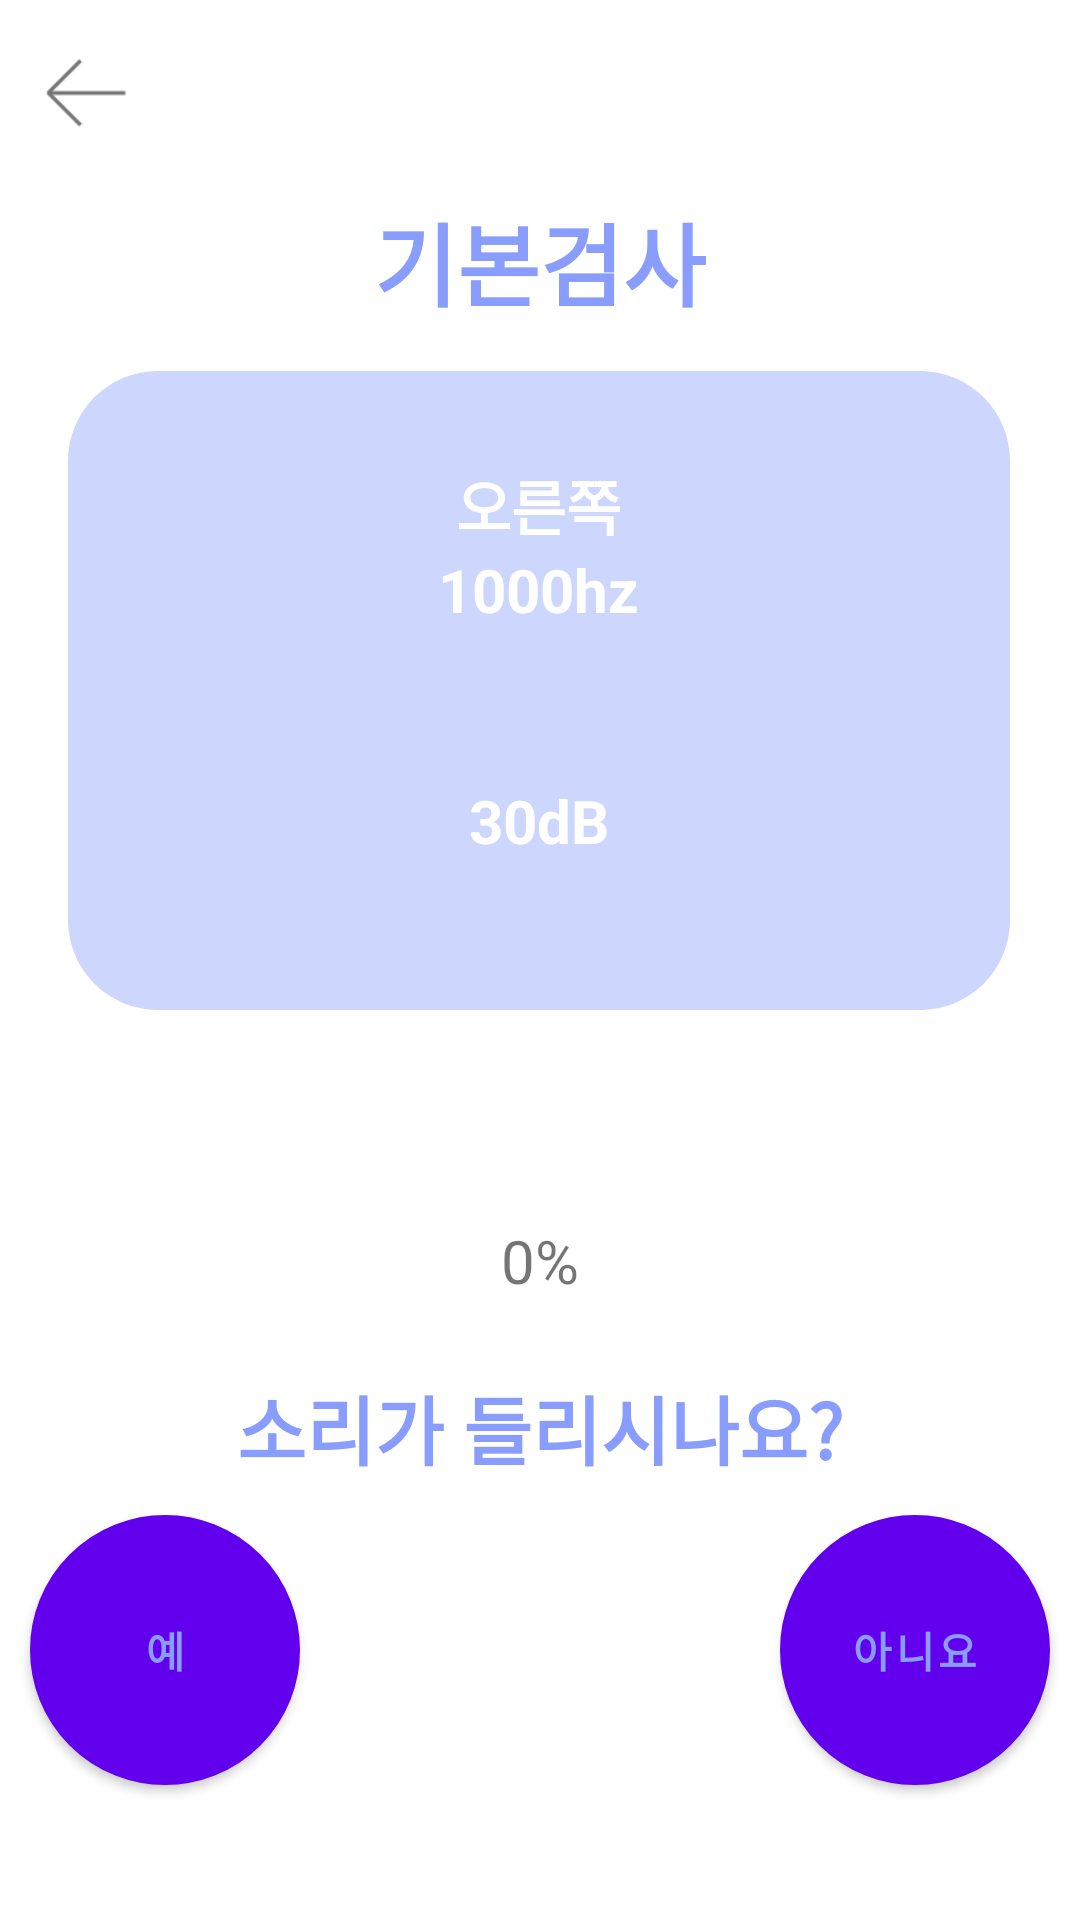

Named icons in this screenshot (1080*1920) and their bounding boxes, bbox=[x1, y1, x2, y2]:
pageback: bbox=[46, 59, 126, 127]
